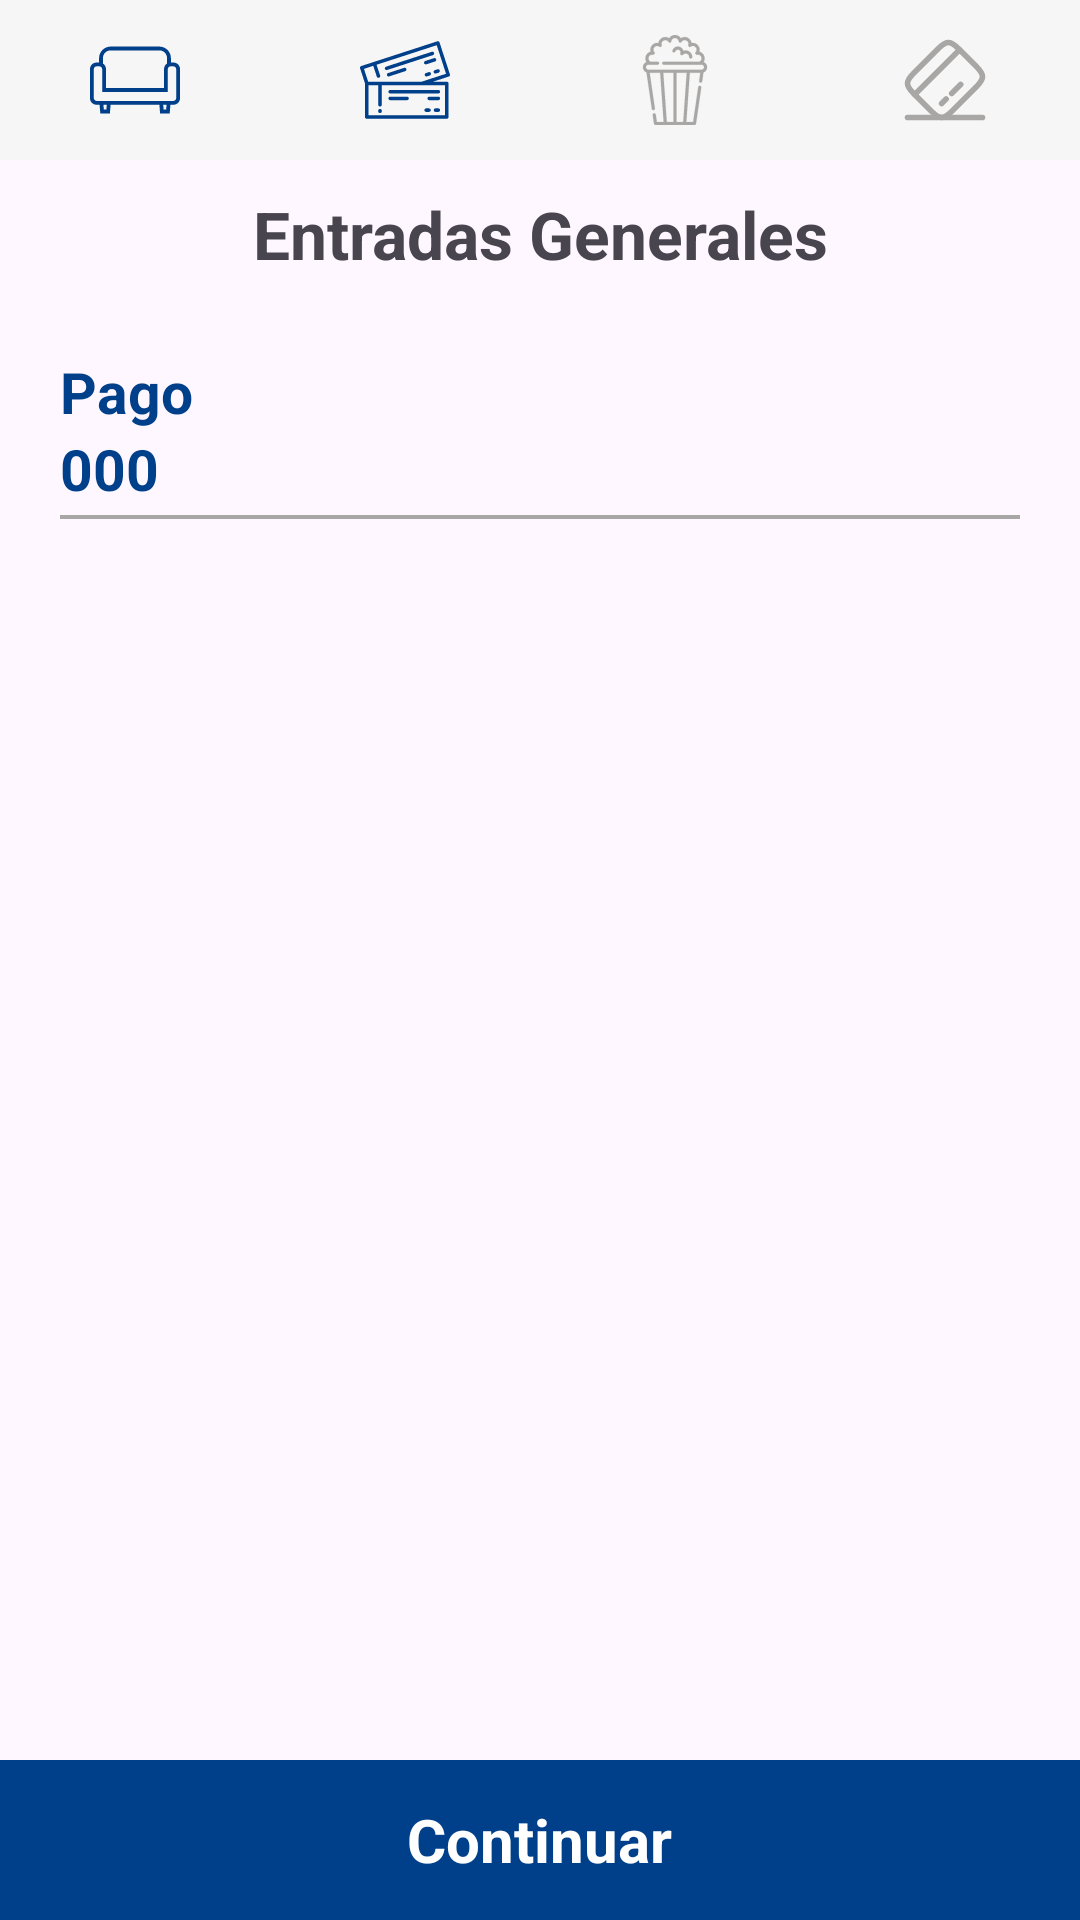

Named icons in this screenshot (1080 x 1920) and their centers, (x=x, y=y):
card: (x=945, y=80)
popcorn: (x=675, y=80)
sofa: (x=135, y=80)
tikctes: (x=405, y=80)
